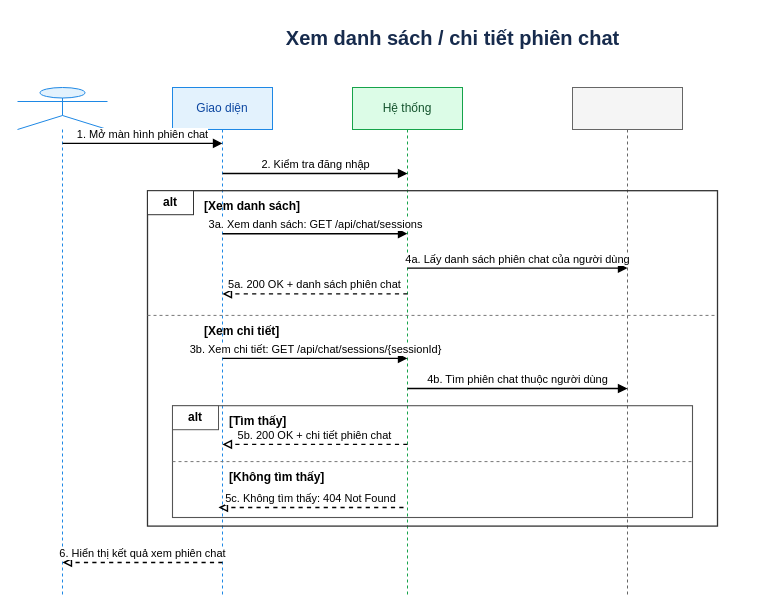
The diagram is 770 pixels wide and 612 high, and some of its shapes have lost their labels. The shapes that lost their labels are listed below. From the top down, each one's box as (x1, y1, x2, y2) in pixels, then its label:
(16, 86, 108, 595): Người dùng
(572, 86, 682, 595): Database
